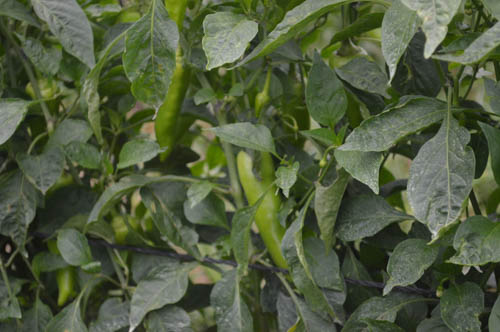ChiliPepper: (239, 143, 296, 279), (154, 55, 194, 165)
